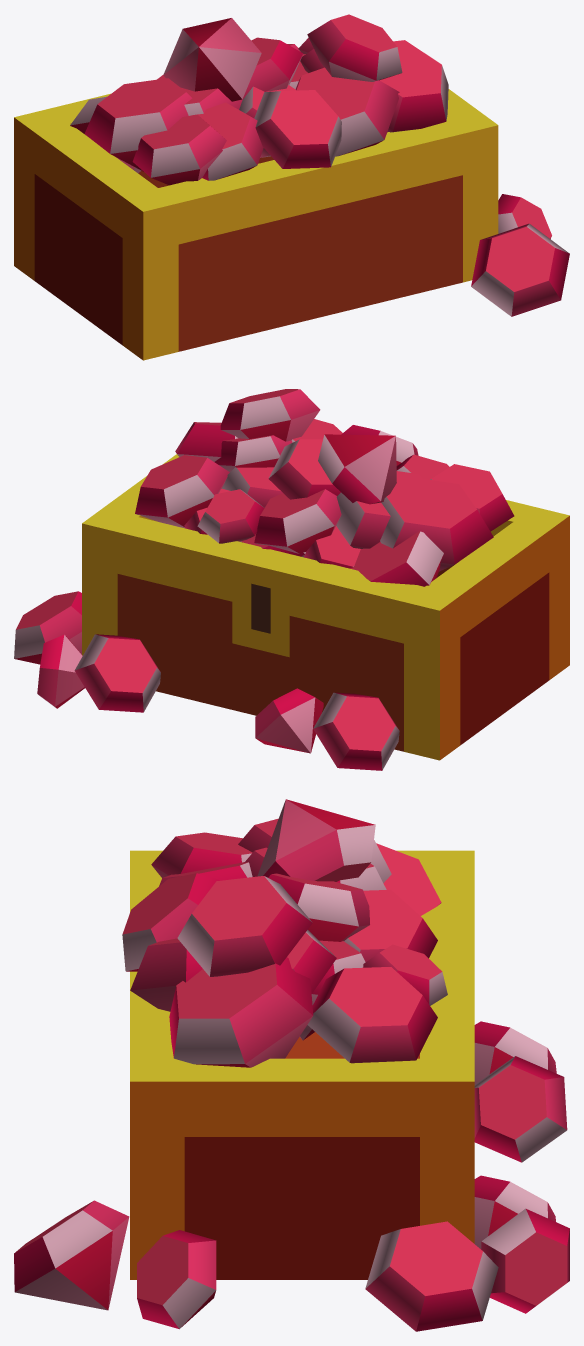
The model's file is GemChest_Med.fbx.
The picture shows the model from 3 angles, top to bottom: view 1: azimuth 30°, elevation 25°; view 2: azimuth 150°, elevation 25°; view 3: azimuth 270°, elevation 25°; orthographic projection. The views are drawn at different scales.
Visible parts, largest first — view 1: GemChest_medium; view 2: GemChest_medium; view 3: GemChest_medium.
Boxes of the visible parts, box(x1,y1,x2,y2) form: GemChest_medium: box(14, 14, 569, 360); GemChest_medium: box(14, 389, 569, 770); GemChest_medium: box(14, 799, 569, 1331).
Bounding box in the file's own units: 220 × 130 × 183.
